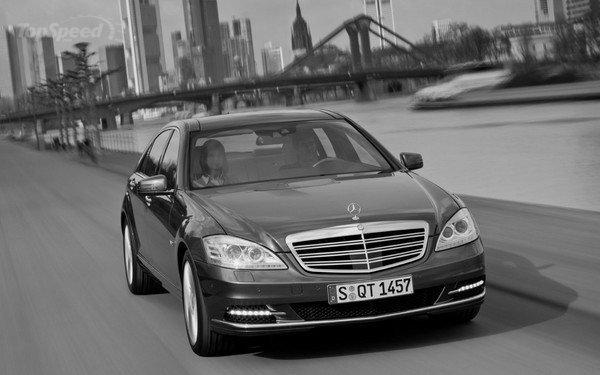car: (122, 109, 490, 360)
